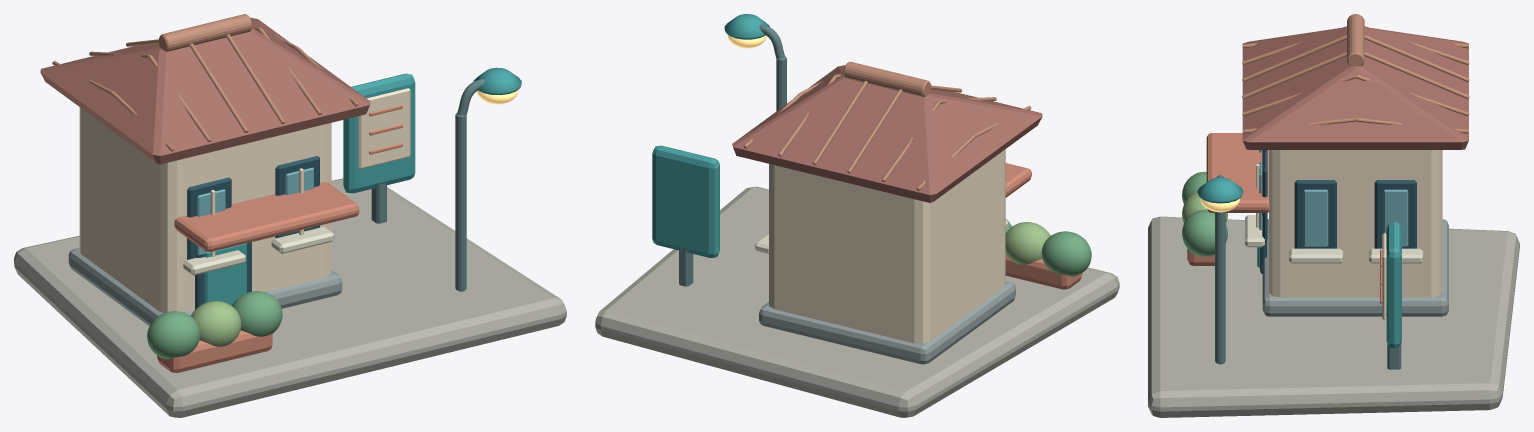
The model's file is city_decor_c.glb.
3 renders of one model, left to right at view 1: azimuth 30°, elevation 25°; view 2: azimuth 150°, elevation 25°; view 3: azimuth 270°, elevation 25°, orthographic. The views are drawn at different scales.
Parts seen in each view (by area): view 1: Batched City v2 riverstone paving, Batched City v2 old ivory stucco, Batched City v2 clay roof tiles, Batched City v2 faded terracotta plaster, Batched City v2 transit enamel, Batched City v2 tile ridges, Batched City v2 terrace leaves, Batched City v2 warm grey retaining stone, Batched City v2 iron and rail, Batched City v2 deep window reveals, Batched City v2 smooth step edges, Batched City v2 sunlit terrace leaves (+1 smaller); view 2: Batched City v2 riverstone paving, Batched City v2 old ivory stucco, Batched City v2 clay roof tiles, Batched City v2 transit enamel, Batched City v2 warm grey retaining stone, Batched City v2 tile ridges, Batched City v2 faded terracotta plaster, Batched City v2 terrace leaves, Batched City v2 sunlit terrace leaves, Batched City v2 iron and rail; view 3: Batched City v2 riverstone paving, Batched City v2 clay roof tiles, Batched City v2 old ivory stucco, Batched City v2 tile ridges, Batched City v2 warm grey retaining stone, Batched City v2 deep window reveals, Batched City v2 faded terracotta plaster, Batched City v2 transit enamel, Batched City v2 sky reflected glass, Batched City v2 iron and rail, Batched City v2 smooth step edges, Batched City v2 terrace leaves (+1 smaller).
Boxes of the visible parts, x1,y1,x2,y2 form: Batched City v2 riverstone paving: (14,178,566,417); Batched City v2 old ivory stucco: (79,88,410,312); Batched City v2 clay roof tiles: (40,17,370,164); Batched City v2 faded terracotta plaster: (157,105,402,372); Batched City v2 transit enamel: (204,67,521,305); Batched City v2 tile ridges: (52,14,358,151); Batched City v2 terrace leaves: (147,291,282,359); Batched City v2 warm grey retaining stone: (68,248,342,325); Batched City v2 iron and rail: (371,79,484,291); Batched City v2 deep window reveals: (187,156,319,309); Batched City v2 smooth step edges: (183,227,334,275); Batched City v2 sunlit terrace leaves: (191,301,241,346); Batched City v2 riverstone paving: (595,186,1119,417); Batched City v2 old ivory stucco: (769,149,1005,343); Batched City v2 clay roof tiles: (732,65,1042,202); Batched City v2 transit enamel: (652,14,769,257); Batched City v2 warm grey retaining stone: (759,281,1015,364); Batched City v2 tile ridges: (743,61,1031,190); Batched City v2 faded terracotta plaster: (1005,163,1082,289); Batched City v2 terrace leaves: (1005,219,1091,276); Batched City v2 sunlit terrace leaves: (1005,222,1050,264); Batched City v2 iron and rail: (679,24,786,286); Batched City v2 riverstone paving: (1148,216,1519,417); Batched City v2 clay roof tiles: (1242,27,1468,149); Batched City v2 old ivory stucco: (1256,150,1442,320); Batched City v2 tile ridges: (1242,14,1469,133); Batched City v2 warm grey retaining stone: (1262,219,1448,316); Batched City v2 deep window reveals: (1260,150,1416,273); Batched City v2 faded terracotta plaster: (1187,133,1382,303); Batched City v2 transit enamel: (1197,177,1401,348); Batched City v2 sky reflected glass: (1259,150,1408,246); Batched City v2 iron and rail: (1215,175,1401,369); Batched City v2 smooth step edges: (1245,215,1422,263); Batched City v2 terrace leaves: (1182,171,1227,256).
Size of the model in its own units: 2.84 by 1.94 by 2.42.
